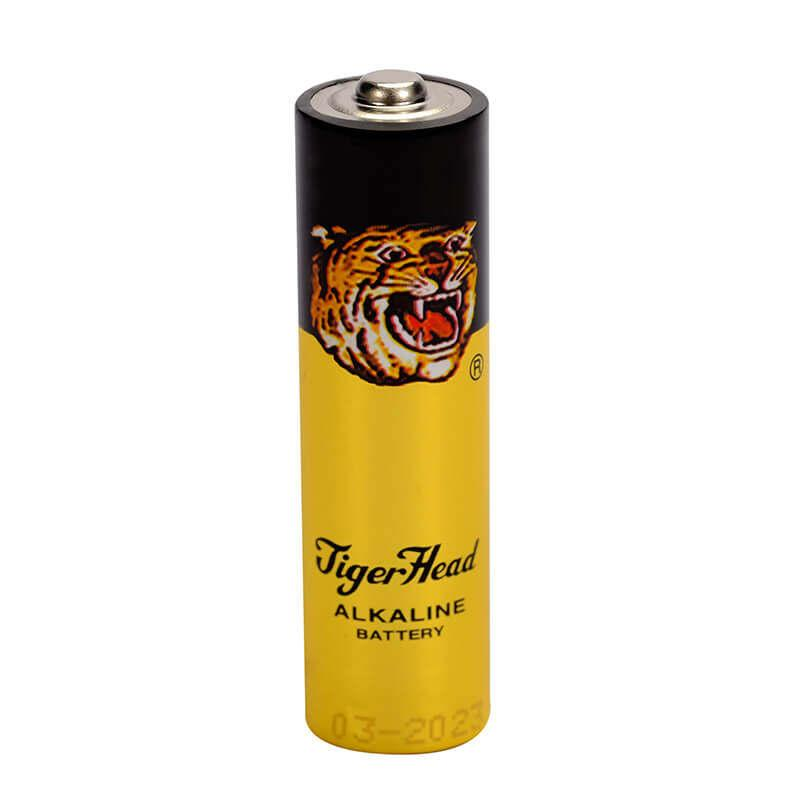AA: (285, 48, 503, 763)
